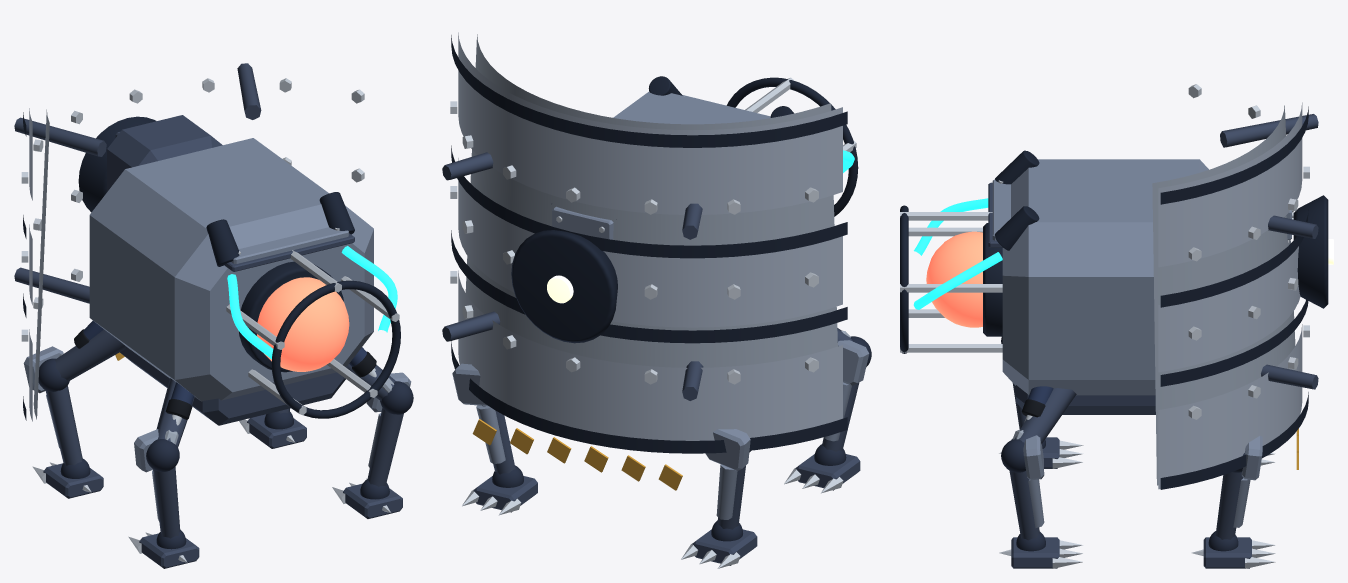
Rendered from enemy_aegis.glb.
3 renders of one model, left to right at view 1: azimuth 30°, elevation 25°; view 2: azimuth 150°, elevation 25°; view 3: azimuth 270°, elevation 25°, orthographic. The views are drawn at different scales.
Visible parts, largest first — view 1: aegis_body, aegis_weak_core, aegis_head, aegis_body_lower, aegis_cage_ring, aegis_core_housing, aegis_shield_boss, aegis_leg_l_f_thigh, aegis_leg_l_f_shin, aegis_leg_r_b_shin, aegis_back_plate_b_face, aegis_leg_l_b_shin (+22 smaller); view 2: aegis_shield_band_top, aegis_shield_band_low, aegis_shield, aegis_shield_band_mid, aegis_shield_boss, aegis_shield_rim2.02, aegis_shield_rim0.58, aegis_shield_rim1.5, aegis_shield_rim1.1, aegis_body, aegis_shield_hazard, aegis_cage_ring (+17 smaller); view 3: aegis_body, aegis_shield, aegis_shield_band_top, aegis_shield_band_low, aegis_shield_band_mid, aegis_weak_core, aegis_shield_boss, aegis_body_lower, aegis_shield_rim2.02, aegis_shield_rim1.1, aegis_shield_rim1.5, aegis_shield_rim0.58 (+22 smaller).
Boxes of the visible parts, x1,y1,x2,y2 form: aegis_body: [89, 138, 373, 401]; aegis_weak_core: [257, 277, 349, 371]; aegis_head: [107, 115, 222, 191]; aegis_body_lower: [120, 347, 347, 425]; aegis_cage_ring: [271, 280, 400, 418]; aegis_core_housing: [239, 261, 343, 372]; aegis_shield_boss: [78, 116, 156, 212]; aegis_leg_l_f_thigh: [55, 329, 126, 381]; aegis_leg_l_f_shin: [45, 385, 82, 465]; aegis_leg_r_b_shin: [367, 407, 403, 486]; aegis_back_plate_b_face: [231, 227, 348, 263]; aegis_leg_l_b_shin: [153, 466, 180, 538]; aegis_shield_band_top: [458, 32, 842, 214]; aegis_shield_band_low: [458, 270, 842, 440]; aegis_shield: [465, 34, 837, 367]; aegis_shield_band_mid: [458, 158, 842, 327]; aegis_shield_boss: [511, 230, 617, 343]; aegis_shield_rim2.02: [451, 35, 847, 147]; aegis_shield_rim0.58: [451, 341, 847, 453]; aegis_shield_rim1.5: [451, 145, 847, 258]; aegis_shield_rim1.1: [451, 230, 847, 343]; aegis_body: [613, 91, 770, 124]; aegis_shield_hazard: [472, 419, 682, 490]; aegis_cage_ring: [726, 77, 858, 216]; aegis_body: [1002, 159, 1208, 395]; aegis_shield: [1152, 105, 1295, 485]; aegis_shield_band_top: [1158, 102, 1302, 267]; aegis_shield_band_low: [1158, 324, 1302, 489]; aegis_shield_band_mid: [1158, 246, 1300, 372]; aegis_weak_core: [926, 231, 982, 327]; aegis_shield_boss: [1293, 195, 1328, 308]; aegis_body_lower: [1016, 385, 1155, 414]; aegis_shield_rim2.02: [1160, 106, 1308, 204]; aegis_shield_rim1.1: [1160, 299, 1308, 386]; aegis_shield_rim1.5: [1160, 209, 1308, 307]; aegis_shield_rim0.58: [1160, 392, 1308, 489].
Size of the model in its own units: 1.94 by 2.07 by 1.99.
